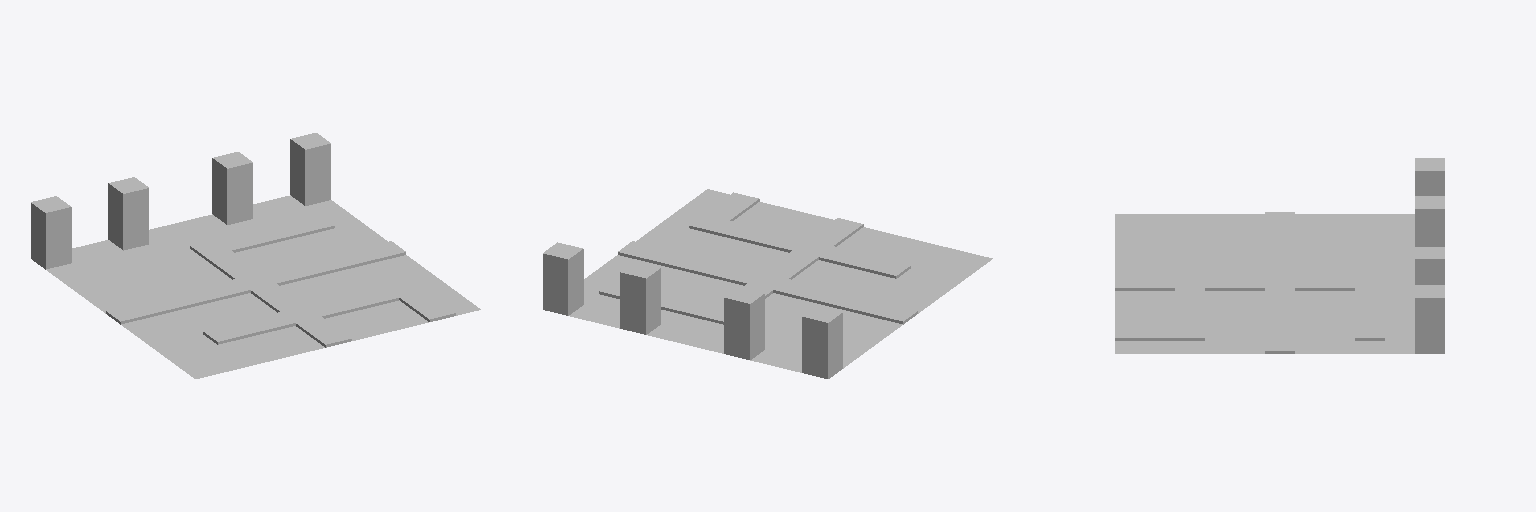
Rendered from examplemodel.obj.
3 views of the same model, side by side, from view 1: azimuth 30°, elevation 25°; view 2: azimuth 150°, elevation 25°; view 3: azimuth 270°, elevation 25° (orthographic).
Visible parts, largest first — view 1: Plane; view 2: Plane; view 3: Plane.
Part boxes in pixels (bbox=[...]): Plane: bbox=[31, 133, 480, 378]; Plane: bbox=[543, 189, 992, 378]; Plane: bbox=[1115, 158, 1444, 353].
Size of the model in its own units: 10.28 by 1.94 by 10.28.